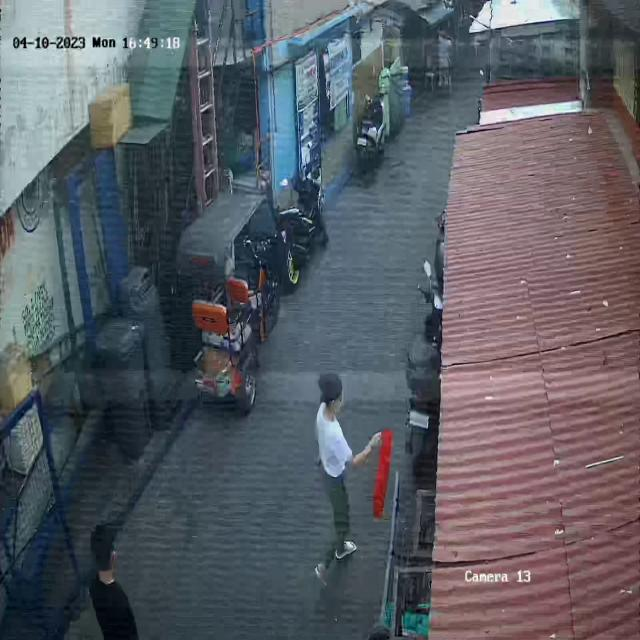garbage_dumping: (368, 422, 396, 524)
